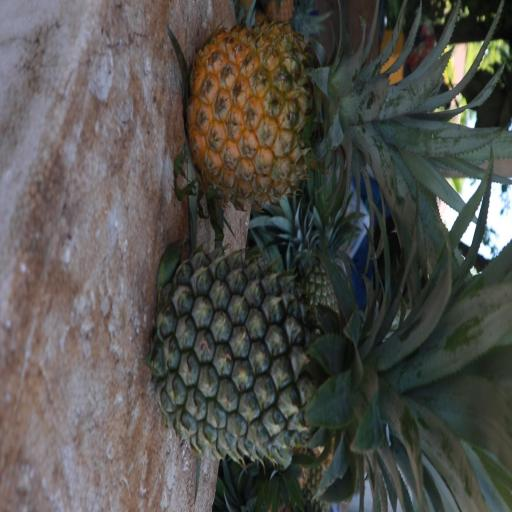Pineapple - v8 v1: (188, 28, 478, 199)
